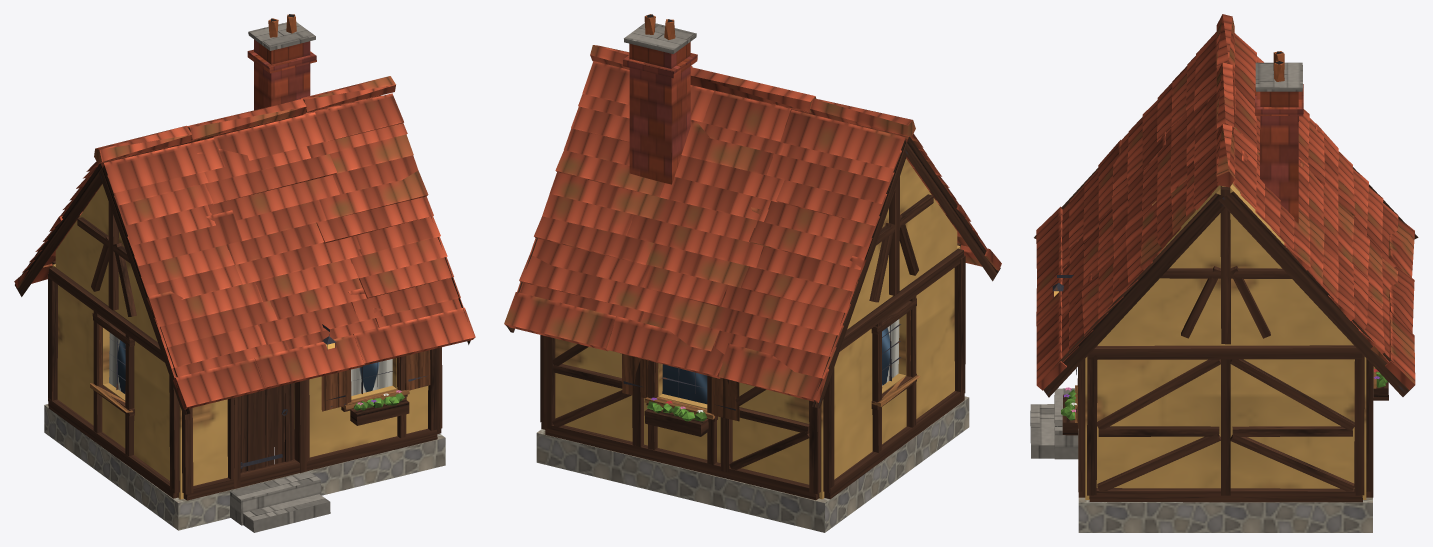
The model's file is SM_Cottage_Small_LOD2.gltf.
3 renders of one model, left to right at view 1: azimuth 30°, elevation 25°; view 2: azimuth 150°, elevation 25°; view 3: azimuth 270°, elevation 25°, orthographic. The views are drawn at different scales.
Visible parts, largest first — view 1: SM_Cottage_Small_LOD2; view 2: SM_Cottage_Small_LOD2; view 3: SM_Cottage_Small_LOD2.
Boxes of the visible parts, left/top/right/bottom form: SM_Cottage_Small_LOD2: left=14, top=14, right=475, bottom=532; SM_Cottage_Small_LOD2: left=504, top=14, right=1001, bottom=532; SM_Cottage_Small_LOD2: left=1030, top=14, right=1418, bottom=532.
Bounding box in the file's own units: 5.01 × 6.49 × 5.23.
2 materials, 2 textured.
